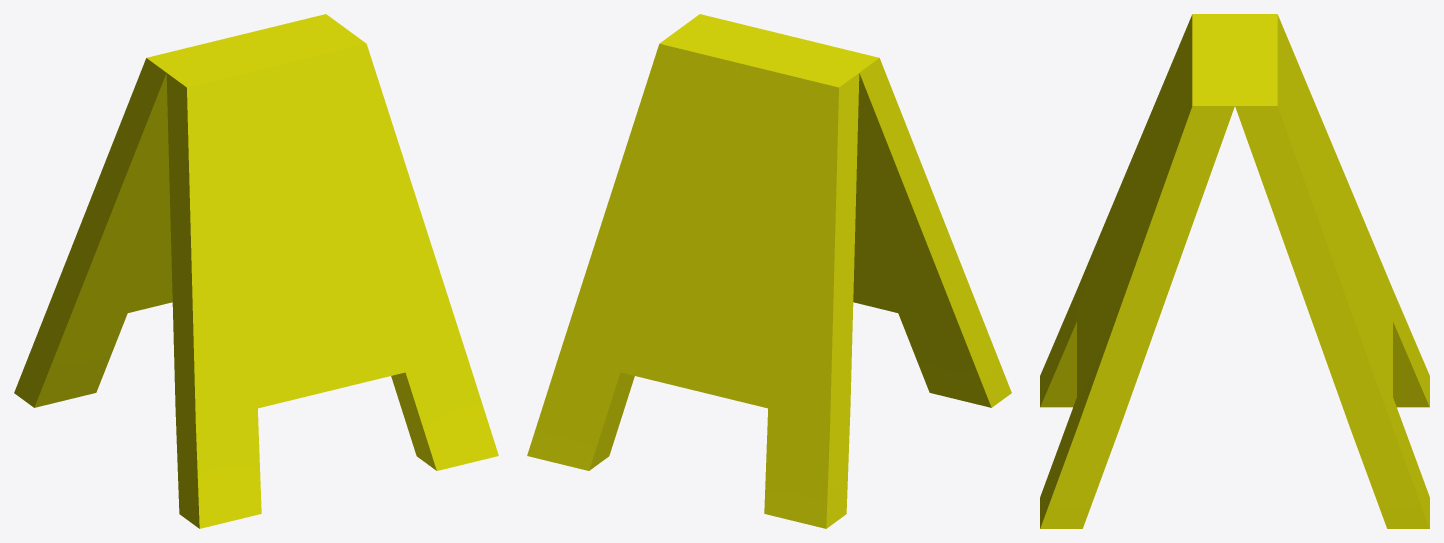
Rendered from wetfloorsign.fbx.
3 renders of one model, left to right at view 1: azimuth 30°, elevation 25°; view 2: azimuth 150°, elevation 25°; view 3: azimuth 270°, elevation 25°, orthographic. The views are drawn at different scales.
Parts seen in each view (by area): view 1: pCube85; view 2: pCube85; view 3: pCube85.
Part boxes in pixels (x1,y1,x2,y2): pCube85: [14, 14, 498, 528]; pCube85: [527, 14, 1011, 528]; pCube85: [1040, 14, 1429, 528].
Size of the model in its own units: 51.52 by 61.48 by 55.34.
